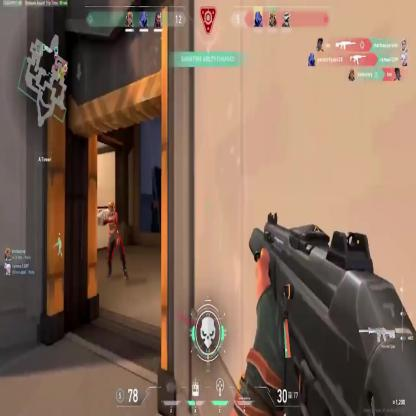enemy: (103, 201, 130, 281)
enemy_head: (108, 202, 115, 214)
